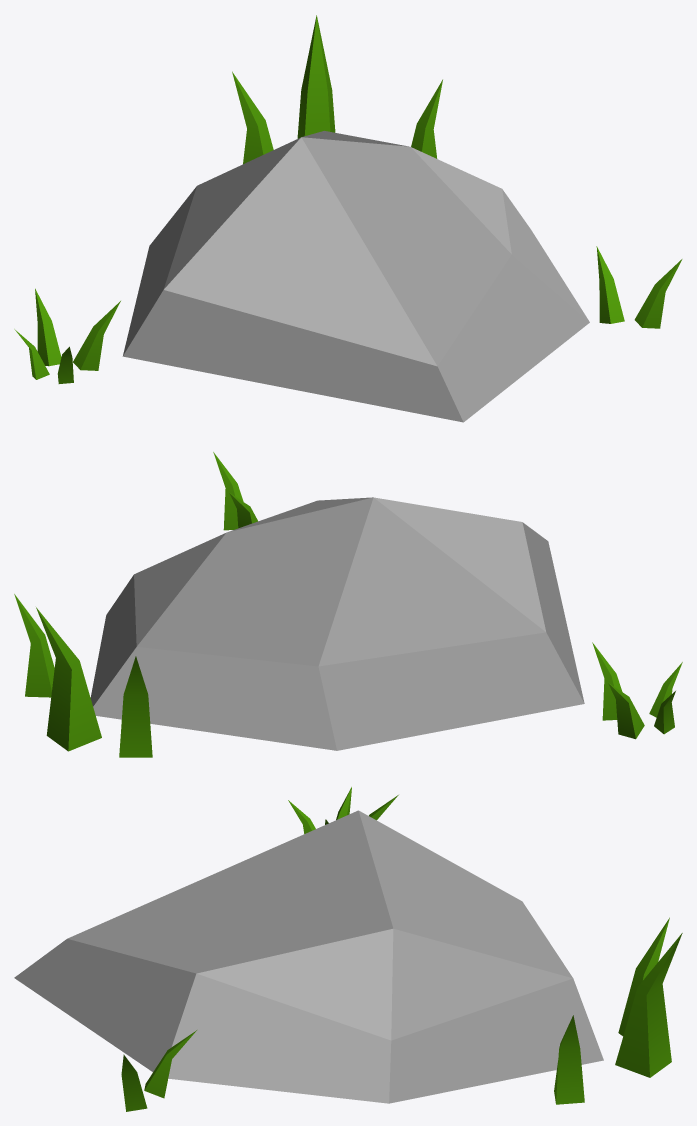
The model's file is SwampStoneSmall.fbx.
3 views of the same model, one above another, from view 1: azimuth 30°, elevation 25°; view 2: azimuth 150°, elevation 25°; view 3: azimuth 270°, elevation 25° (orthographic). The views are drawn at different scales.
Visible parts, largest first — view 1: SwampStoneSmall_LOD0; view 2: SwampStoneSmall_LOD0; view 3: SwampStoneSmall_LOD0.
Part boxes in pixels (x1,y1,x2,y2): SwampStoneSmall_LOD0: (14,15,682,422); SwampStoneSmall_LOD0: (14,452,682,757); SwampStoneSmall_LOD0: (14,787,682,1111).
Size of what is drawn, in the model's own units: 74.16 by 21.73 by 73.98.
